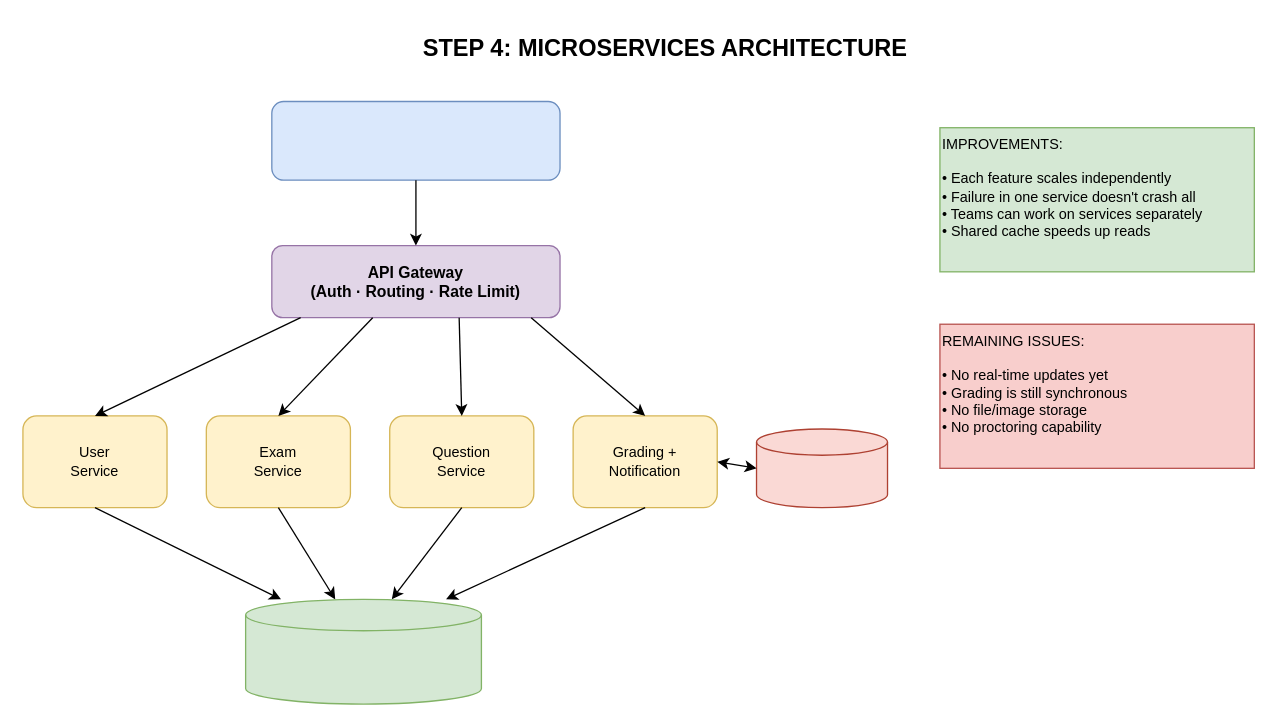
The diagram is 1277 pixels wide and 727 high, and some of its shapes have lost their labels. Each missing label, with the centre of its shape:
"Clients (Web / Mobile / Admin)" belongs at [415,140].
"Databases (one per service)" belongs at [362,651].
"Redis Cache" belongs at [821,468].
